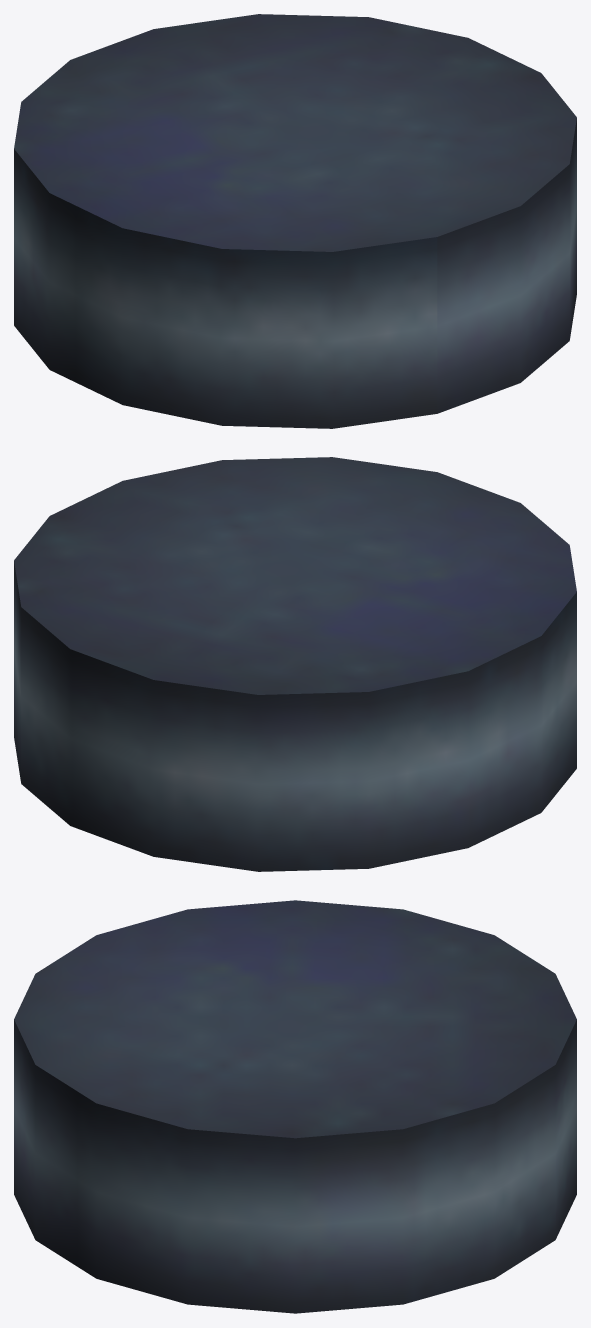
File: SM_SYD_DomeLightFixture_01.fbx
3 views of the same model, one above another, from view 1: azimuth 30°, elevation 25°; view 2: azimuth 150°, elevation 25°; view 3: azimuth 270°, elevation 25° (orthographic).
Parts seen in each view (by area): view 1: SM_SYD_DomeLightFixture_01; view 2: SM_SYD_DomeLightFixture_01; view 3: SM_SYD_DomeLightFixture_01.
Part boxes in pixels (x1,y1,x2,y2): SM_SYD_DomeLightFixture_01: [14, 14, 576, 428]; SM_SYD_DomeLightFixture_01: [14, 457, 576, 871]; SM_SYD_DomeLightFixture_01: [14, 900, 576, 1313].
Size of the model in its own units: 131 by 62.85 by 131.
